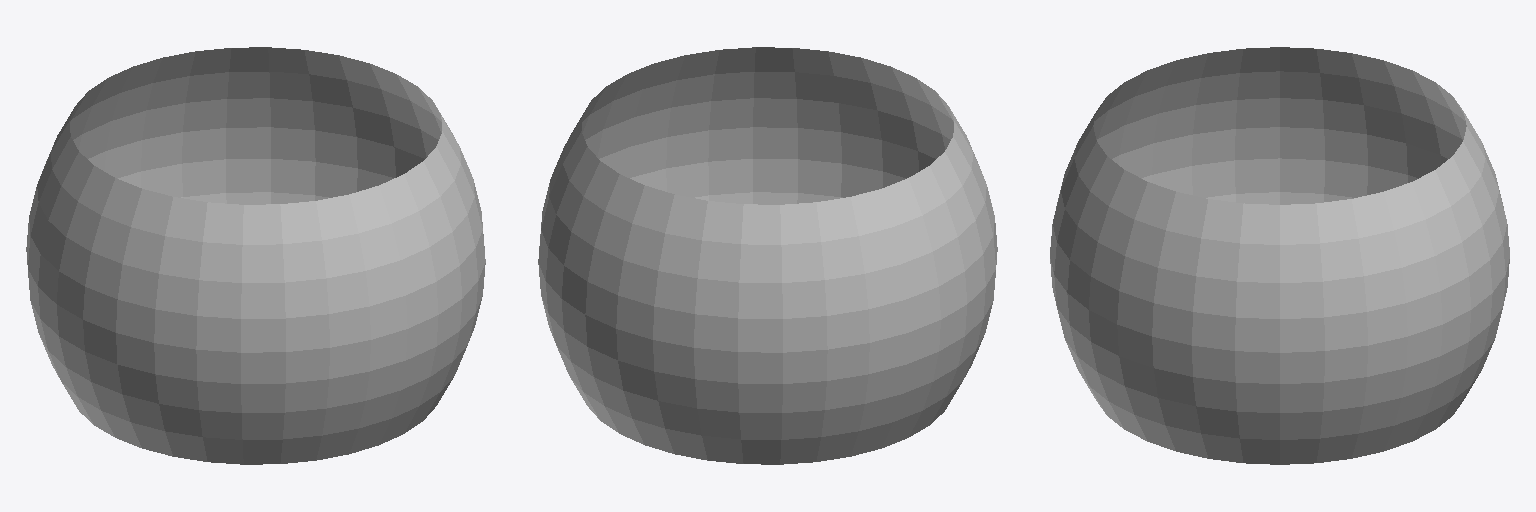
Rendered from ring0.obj.
3 renders of one model, left to right at view 1: azimuth 30°, elevation 25°; view 2: azimuth 150°, elevation 25°; view 3: azimuth 270°, elevation 25°, orthographic.
Parts seen in each view (by area): view 1: Cylinder; view 2: Cylinder; view 3: Cylinder.
Part boxes in pixels (bbox=[...]): Cylinder: bbox=[26, 47, 485, 464]; Cylinder: bbox=[538, 47, 997, 464]; Cylinder: bbox=[1050, 47, 1509, 464].
Size of the model in its own units: 2.46 by 1.54 by 2.46.